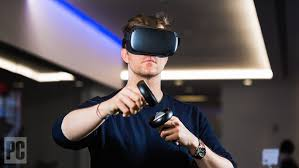oculus: (123, 24, 181, 58)
